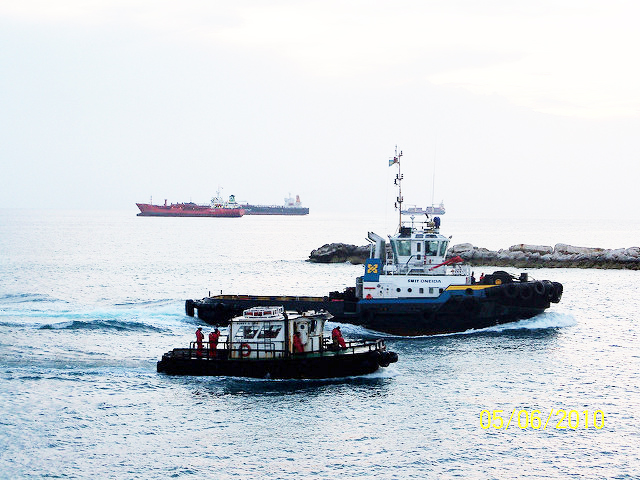boat: (160, 306, 392, 380)
tanker: (136, 188, 243, 220), (245, 190, 309, 215)
tug_boat: (185, 176, 562, 328)
